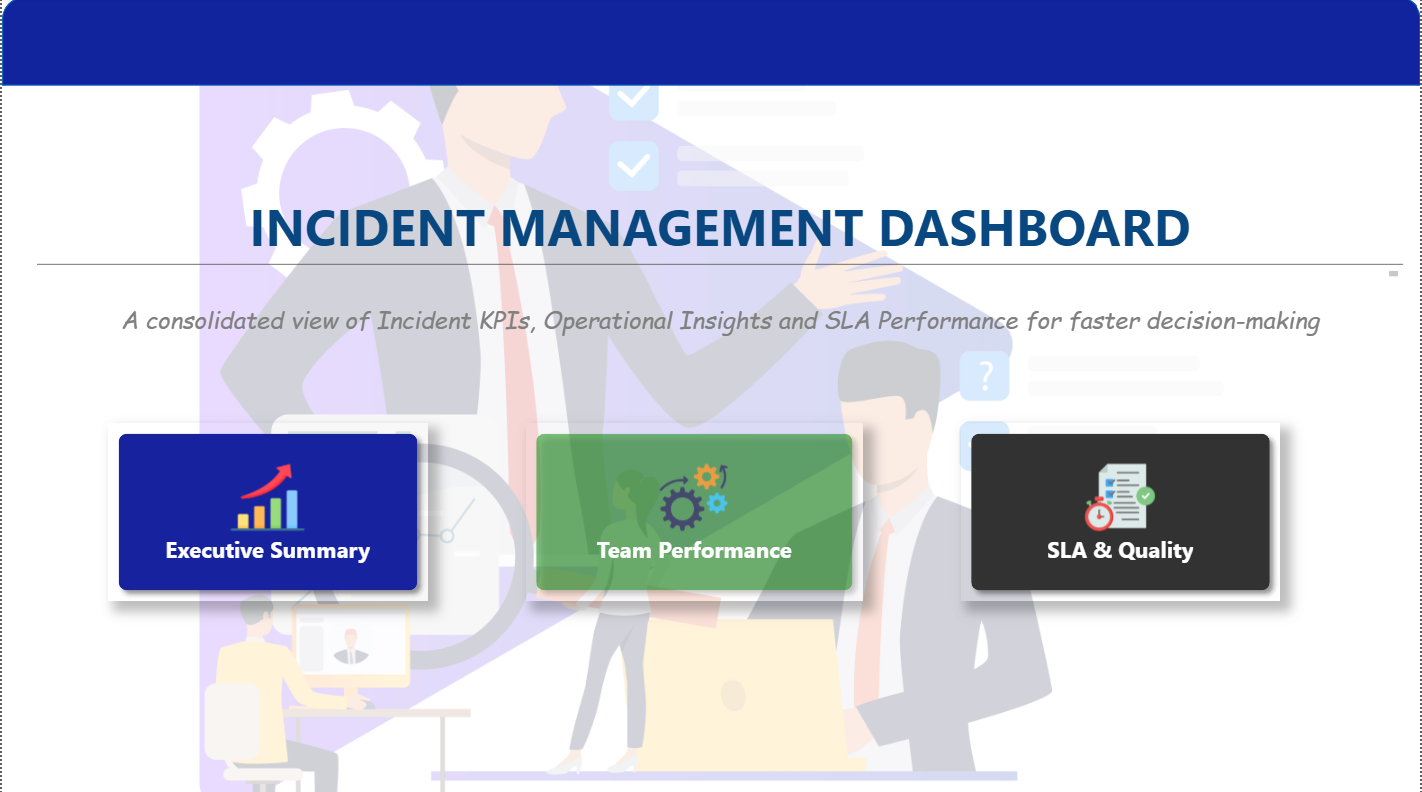

The page's visual inventory and layout, read from the dashboard file:
{"tool":"powerbi","page":{"name":"Home","canvas":[1280,720],"ordinal":0},"visuals":[{"type":"textbox","title":"INCIDENT MANAGEMENT DASHBOARD","box":[32,176,1232,80],"z":0},{"type":"textbox","box":[32,272,1232,64],"z":1000},{"type":"actionButton","box":[96,384,288,160],"z":2000},{"type":"actionButton","box":[472,384,304,160],"z":3000},{"type":"actionButton","box":[864,384,288,160],"z":4000},{"type":"shape","box":[0,0,1280,80],"z":5000}]}

Visuals, with their boxes in screenshot pixels (x1, y1, x2, y2), scaled from the page's 1280x720 canvas onto the 1422x792 screenshot:
"INCIDENT MANAGEMENT DASHBOARD" textbox: 36:194:1404:282
textbox: 36:299:1404:370
actionButton: 107:422:427:598
actionButton: 524:422:862:598
actionButton: 960:422:1280:598
shape: 0:0:1421:88
